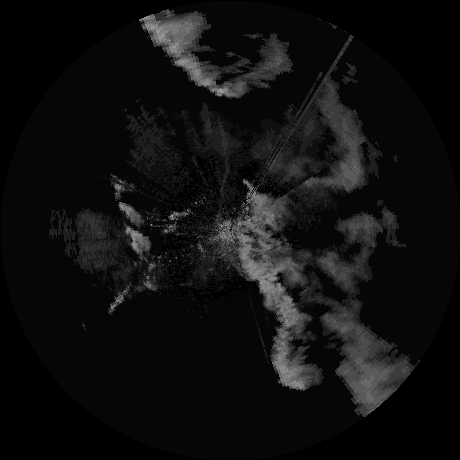frontgust: (217, 154, 234, 216)
